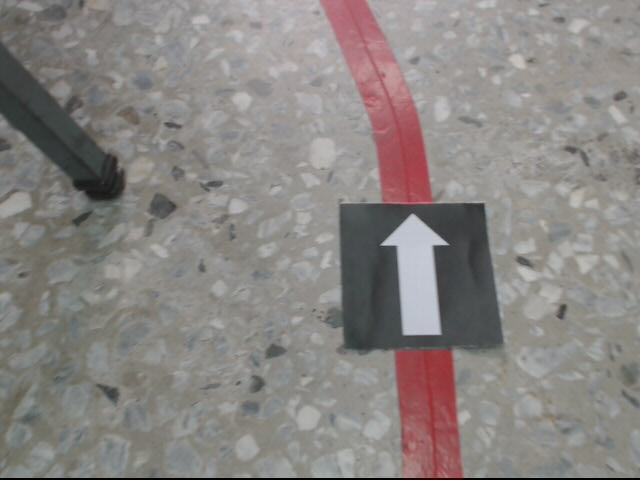straight: (340, 203, 503, 351)
